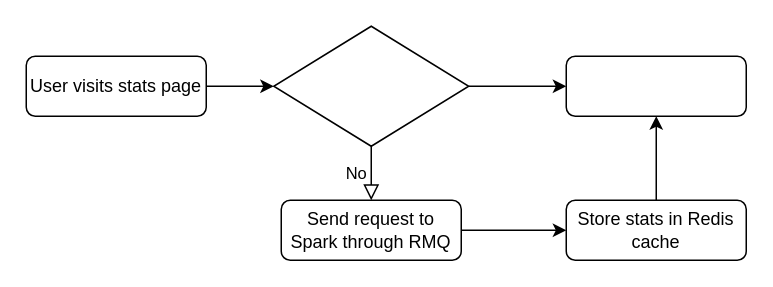
Image size: 773x287. Some labels were removed from this diagram. Here are the shapes that lost their labels. From the top down, the box of each, then its label:
(272, 25, 469, 146): Stats available in Redis Cache
(565, 55, 746, 116): Display Stats
